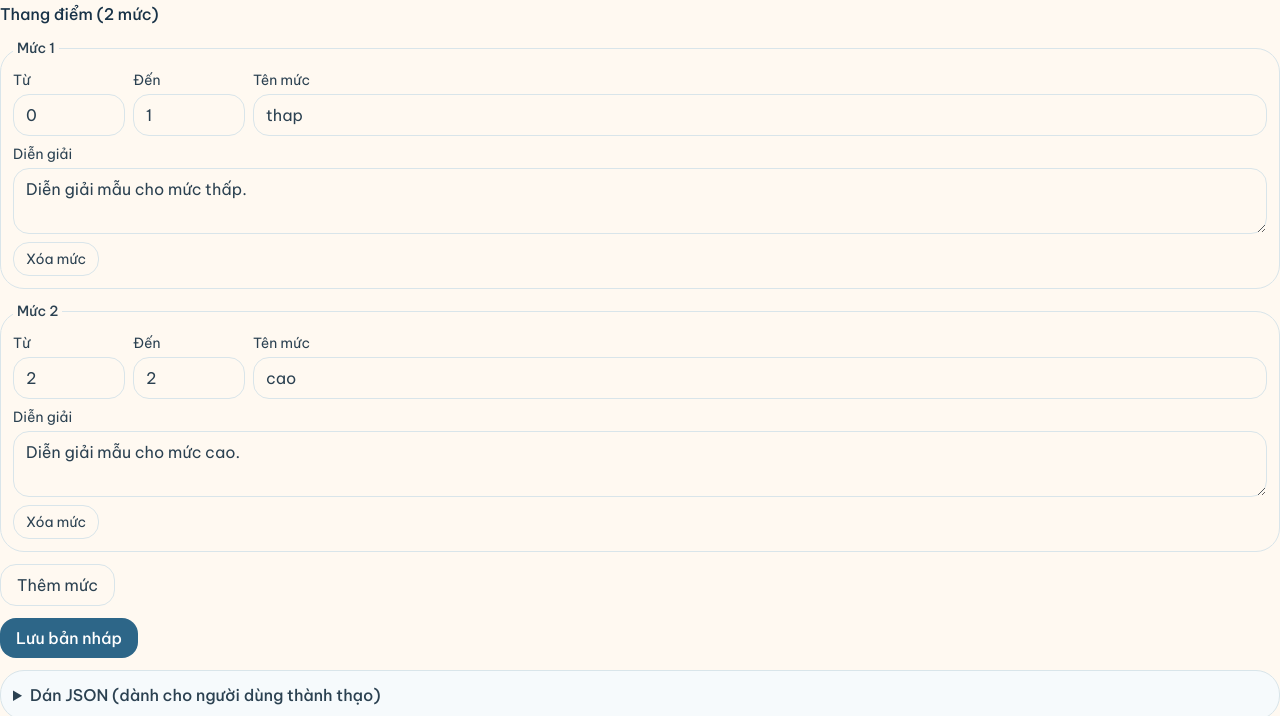
Test: TestEditor › khi tải lại SAU khi lưu thất bại: chuyển sang trạng thái lỗi, KHÔNG để admin tưởng danh sách cũ vẫn còn đúng
This screenshot has width=1280, height=716.
(page scrolled)
Click the button "Lưu bản nháp" at (69, 638), box [0,618,138,658]
(page scrolled)
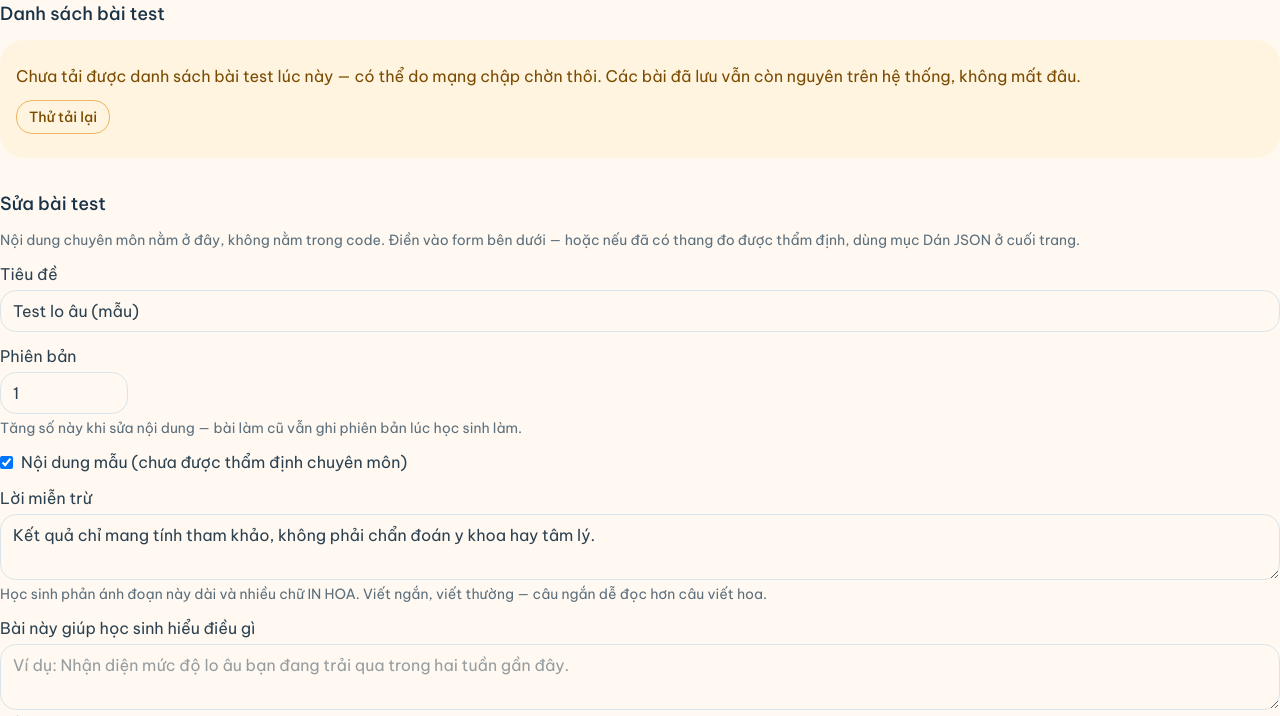
expect the text "Chưa tải được danh sách bài test" is shown: met, box [16,66,1081,86]
